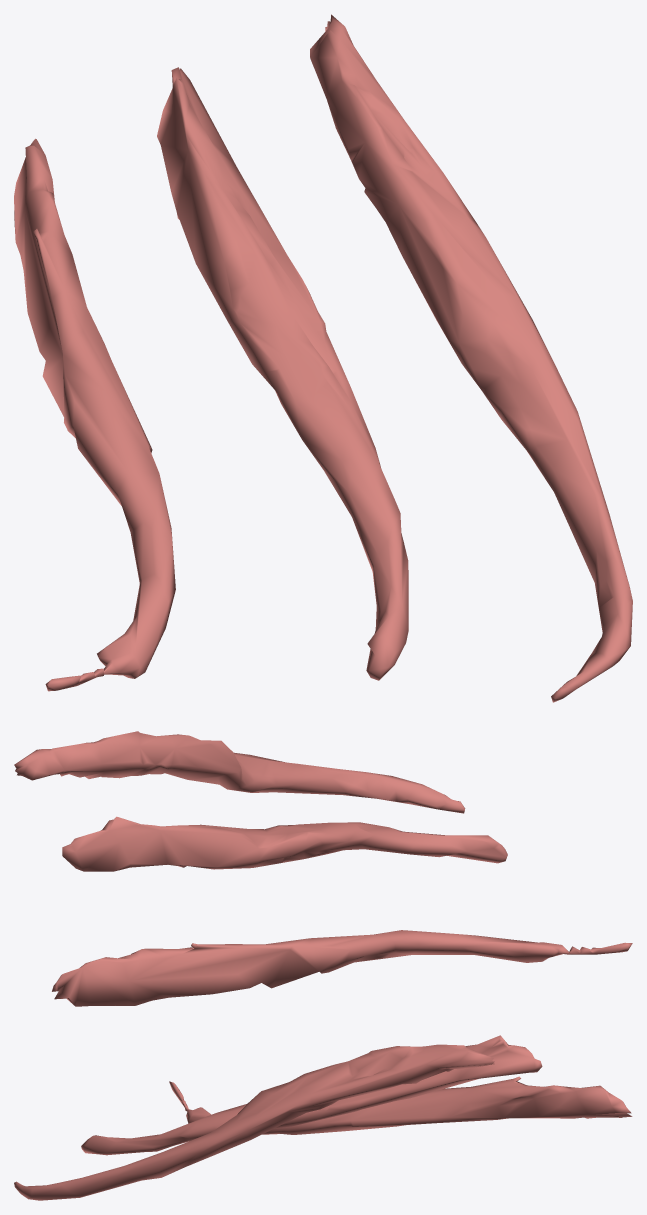
The picture shows the model from 3 angles, top to bottom: view 1: azimuth 30°, elevation 25°; view 2: azimuth 150°, elevation 25°; view 3: azimuth 270°, elevation 25°; orthographic projection. The views are drawn at different scales.
Parts seen in each view (by area): view 1: ZA_a62fc8e97c7e93a6; view 2: ZA_a62fc8e97c7e93a6; view 3: ZA_a62fc8e97c7e93a6.
Boxes of the visible parts, <box> form: ZA_a62fc8e97c7e93a6: <box>14,14,632,702</box>; ZA_a62fc8e97c7e93a6: <box>14,731,632,1006</box>; ZA_a62fc8e97c7e93a6: <box>14,1035,632,1200</box>.
Size of the model in its own units: 0.043 by 0.0263 by 0.0718.
